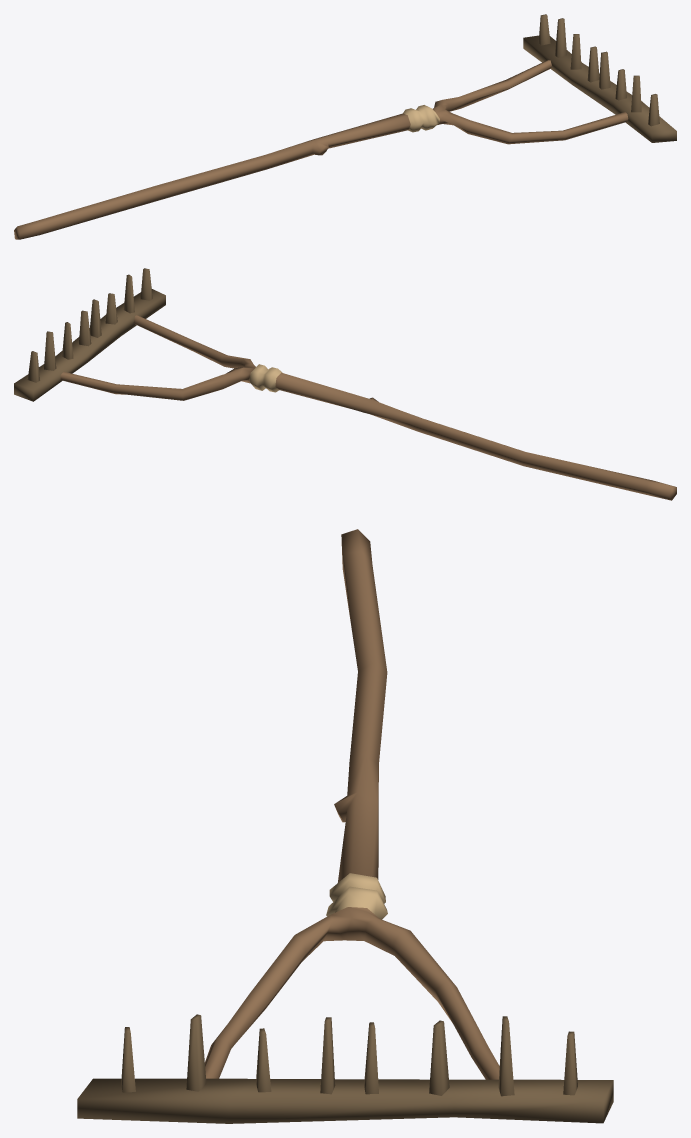
Rendered from rpgpp_lt_rake_01.glb.
3 views of the same model, one above another, from view 1: azimuth 30°, elevation 25°; view 2: azimuth 150°, elevation 25°; view 3: azimuth 270°, elevation 25° (orthographic). The views are drawn at different scales.
Visible parts, largest first — view 1: rpgpp_lt_rake_01; view 2: rpgpp_lt_rake_01; view 3: rpgpp_lt_rake_01.
Boxes of the visible parts, x1,y1,x2,y2 form: rpgpp_lt_rake_01: (14, 14, 676, 239); rpgpp_lt_rake_01: (14, 268, 676, 500); rpgpp_lt_rake_01: (77, 529, 613, 1123).
Bounding box in the file's own units: 1.66 × 0.1401 × 0.6492.
Materials: 1 (1 with a texture image).
